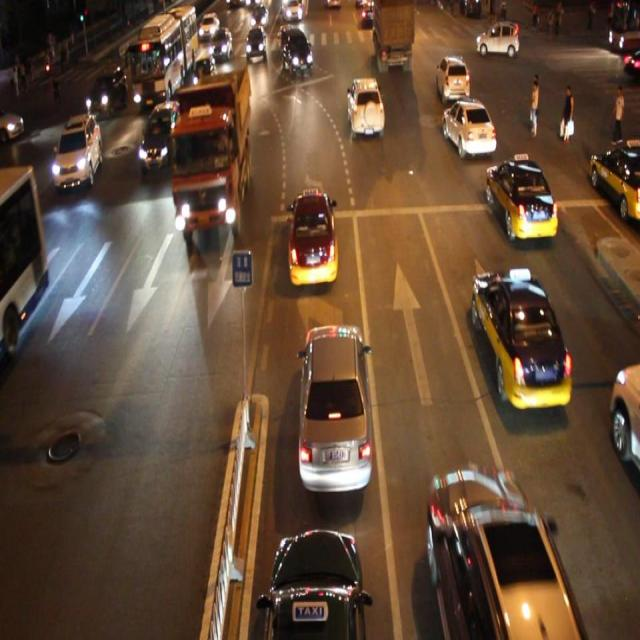bus: (171, 67, 248, 227), (373, 1, 414, 74)
car: (426, 466, 587, 640), (470, 270, 572, 407), (297, 319, 373, 495), (260, 526, 367, 640), (485, 155, 556, 243), (287, 188, 339, 284), (608, 360, 640, 486), (52, 114, 103, 190), (441, 94, 496, 158), (138, 100, 185, 174), (346, 76, 384, 139), (86, 64, 128, 115), (436, 52, 469, 102), (280, 28, 314, 75), (192, 54, 216, 92), (208, 27, 233, 63), (244, 26, 266, 64)
van: (0, 165, 50, 361), (127, 1, 195, 104)
